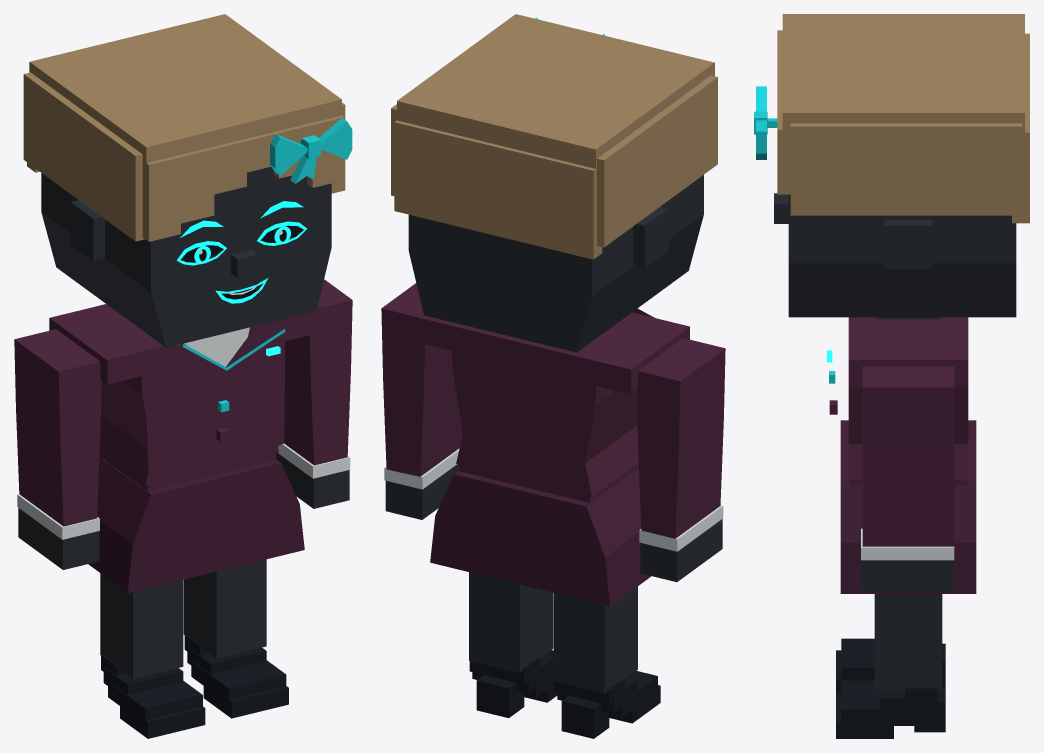
Rendered from agent_female_base_short.glb.
3 views of the same model, side by side, from view 1: azimuth 30°, elevation 25°; view 2: azimuth 150°, elevation 25°; view 3: azimuth 270°, elevation 25° (orthographic). The views are drawn at different scales.
Parts seen in each view (by area): view 1: char_torso_visual, char_hair_visual, char_head_visual, char_arm_negx_visual, char_leg_negx_visual, char_leg_posx_visual, char_arm_posx_visual, char_bow_visual, char_hand_negx_visual, char_hand_posx_visual, char_eye_negx_visual, char_eye_posx_visual (+1 smaller); view 2: char_hair_visual, char_torso_visual, char_head_visual, char_arm_negx_visual, char_arm_posx_visual, char_leg_negx_visual, char_leg_posx_visual, char_hand_negx_visual, char_hand_posx_visual; view 3: char_hair_visual, char_head_visual, char_arm_posx_visual, char_torso_visual, char_leg_posx_visual, char_hand_posx_visual, char_leg_negx_visual, char_bow_visual.
Boxes of the visible parts, x1,y1,x2,y2 form: char_torso_visual: (49,304,317,592); char_hair_visual: (23,14,345,241); char_head_visual: (41,167,331,347); char_arm_negx_visual: (14,329,101,539); char_leg_negx_visual: (100,573,205,738); char_leg_posx_visual: (183,559,288,718); char_arm_posx_visual: (278,279,352,478); char_bow_visual: (270,118,352,183); char_hand_negx_visual: (18,508,99,569); char_hand_posx_visual: (276,453,349,508); char_eye_negx_visual: (176,241,226,265); char_eye_posx_visual: (257,221,307,245); char_hair_visual: (391,14,717,259); char_torso_visual: (417,308,689,606); char_head_visual: (408,175,703,352); char_arm_negx_visual: (636,338,725,551); char_arm_posx_visual: (381,283,462,489); char_leg_negx_visual: (553,586,660,738); char_leg_posx_visual: (469,572,557,718); char_hand_negx_visual: (640,519,722,582); char_hand_posx_visual: (385,464,458,519); char_hair_visual: (777,14,1029,223); char_head_visual: (774,193,1016,319); char_arm_posx_visual: (861,366,954,560); char_torso_visual: (829,317,976,593); char_leg_posx_visual: (836,594,945,738); char_hand_posx_visual: (861,560,953,591); char_leg_negx_visual: (836,638,945,692); char_bow_visual: (754,86,777,159).
Bounding box in the file's own units: 0.88 × 1.77 × 0.6895.
